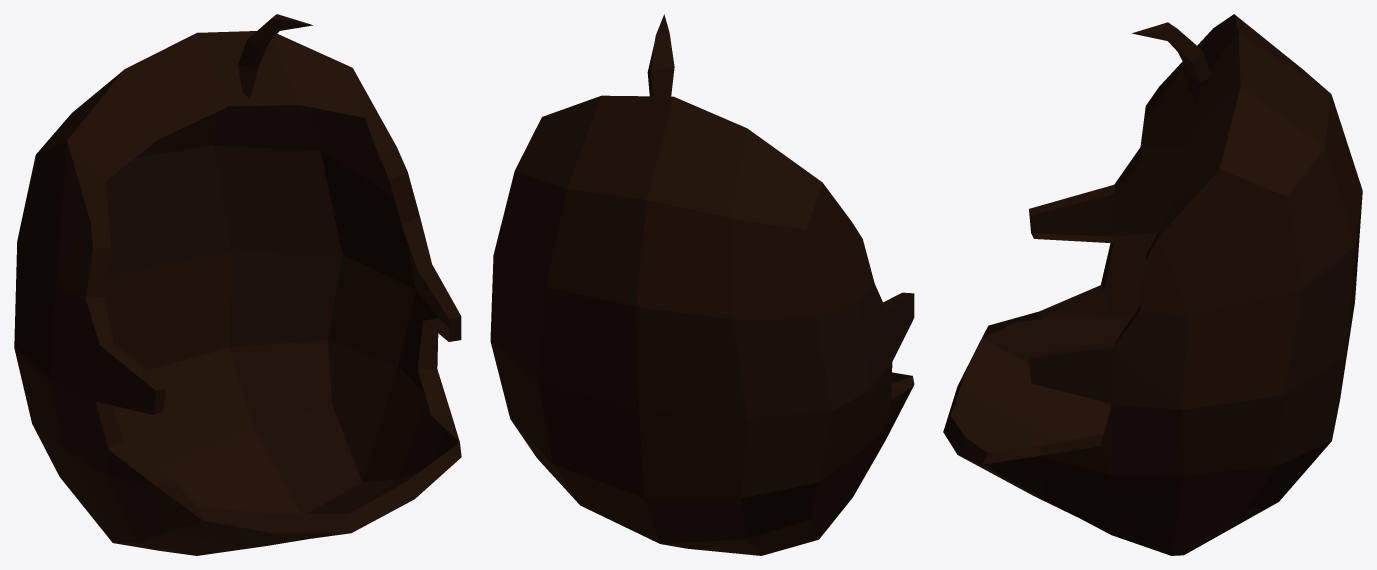
The model's file is Hair Male 01.FBX.
3 views of the same model, side by side, from view 1: azimuth 30°, elevation 25°; view 2: azimuth 150°, elevation 25°; view 3: azimuth 270°, elevation 25° (orthographic). The views are drawn at different scales.
Visible parts, largest first — view 1: Hair Male 01; view 2: Hair Male 01; view 3: Hair Male 01.
Boxes of the visible parts, x1,y1,x2,y2 form: Hair Male 01: [14, 14, 461, 555]; Hair Male 01: [490, 14, 914, 555]; Hair Male 01: [943, 14, 1362, 555].
Size of the model in its own units: 32.74 by 44.25 by 32.37.
